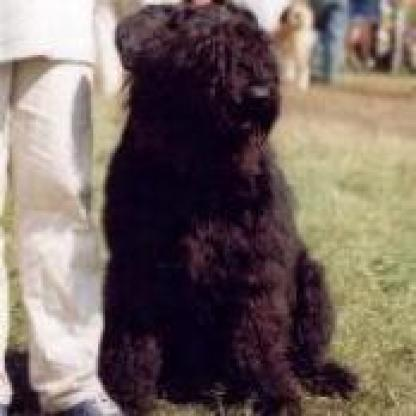Bouvier_des_Flandres: (0, 0, 366, 411)
